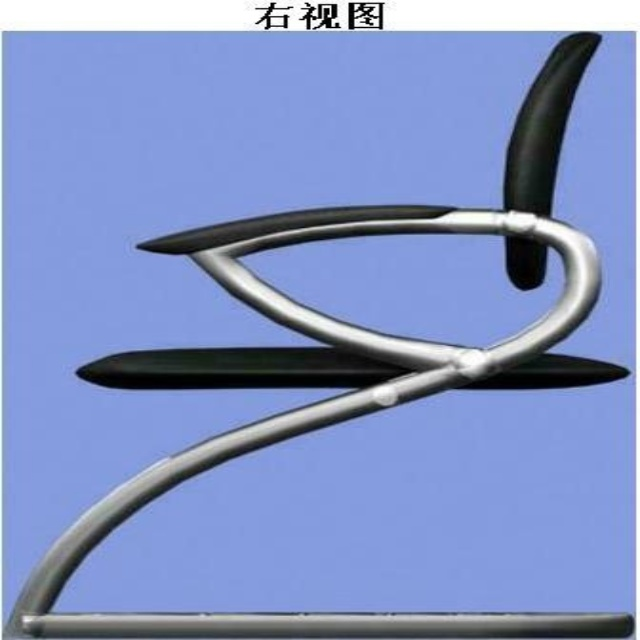obstacle: (4, 32, 564, 613), (549, 32, 632, 366)
